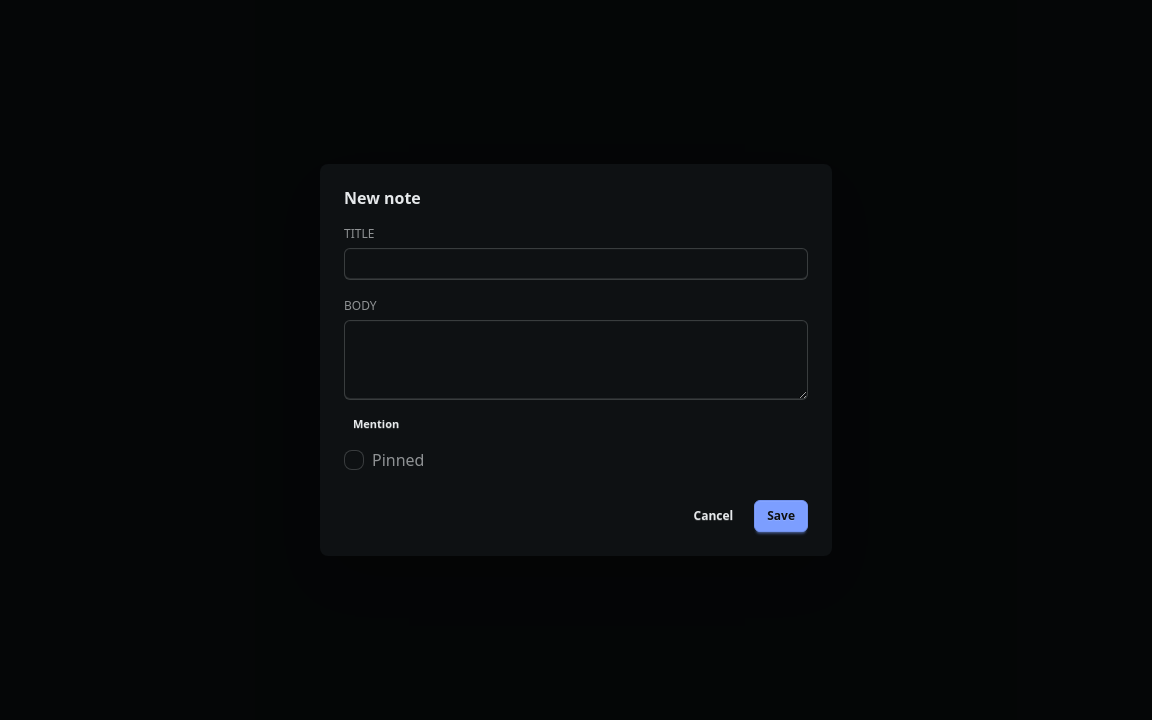
it: NoteForm › rejects an empty title before touching the network
Click the button "Save".
click(781, 516)  # box [754,500,808,532]
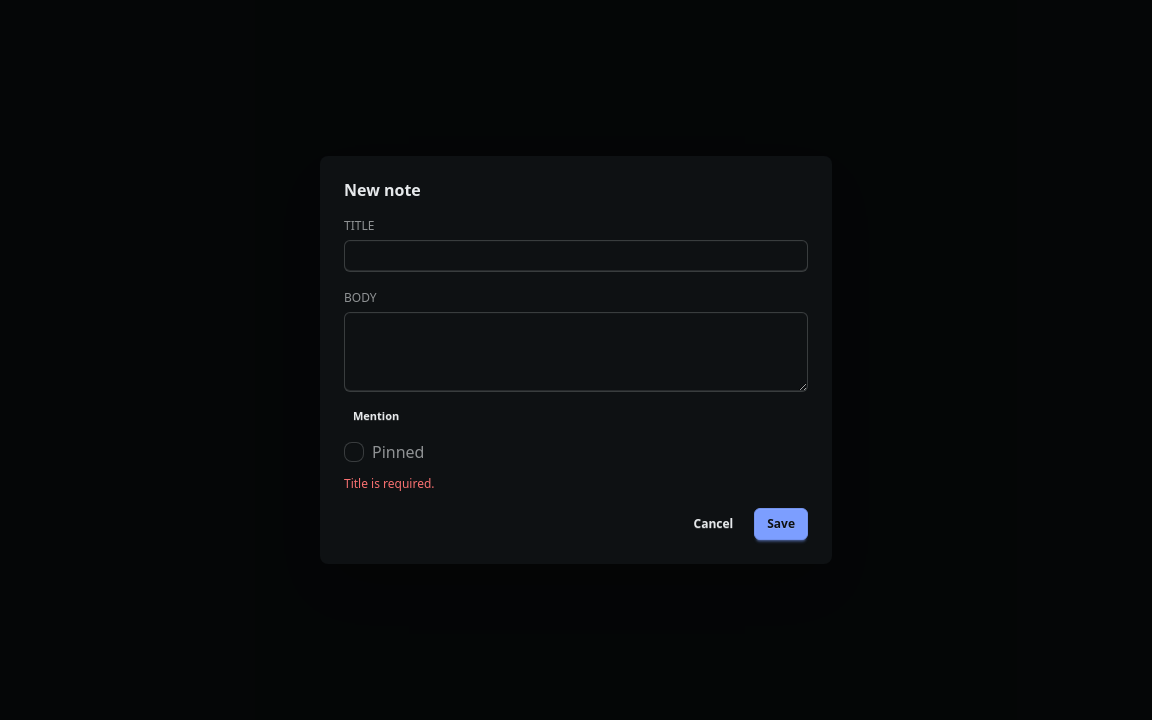
Check: the list item "Title is required." is shown, box [344,475,434,492]
